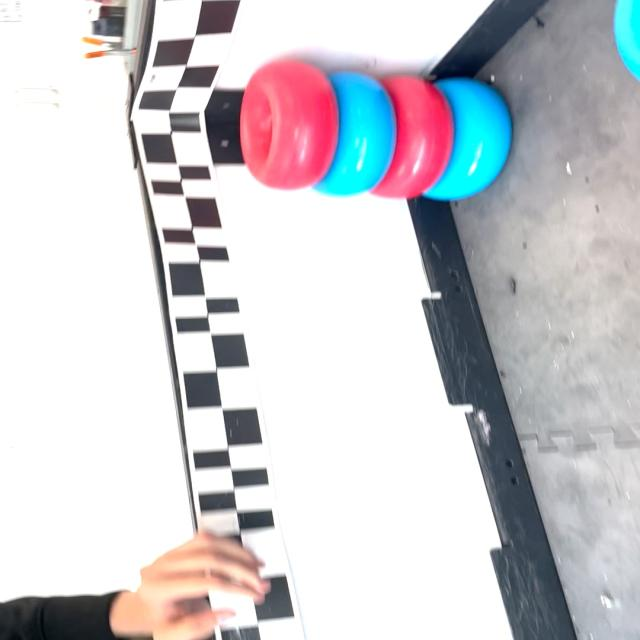Blue-Ring: (422, 78, 511, 201), (313, 72, 396, 196)
Red-Ring: (240, 60, 338, 190), (371, 76, 453, 198)
